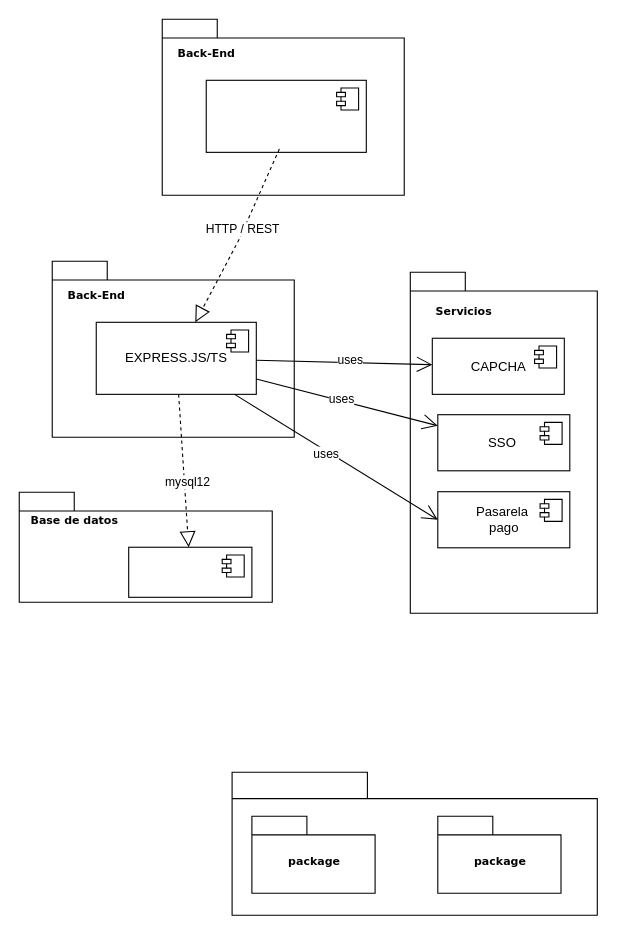
Image size: 617x935. Some labels were removed from this diagram. The centre of each missing label's shape, as x and y in pixels:
HTML/CSS/TS: (x=285, y=115)
Mysql: (x=190, y=571)
